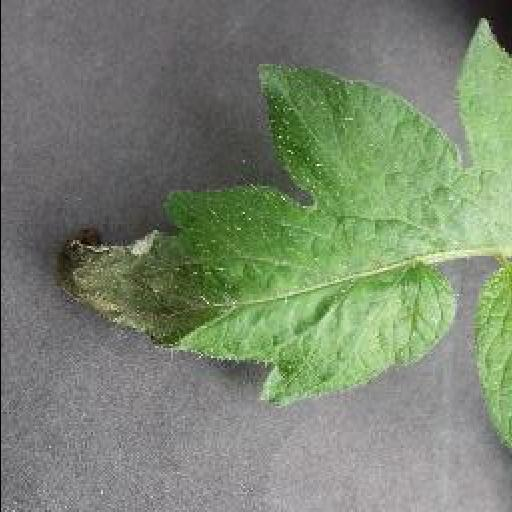disease_tomato: (52, 18, 512, 410)
